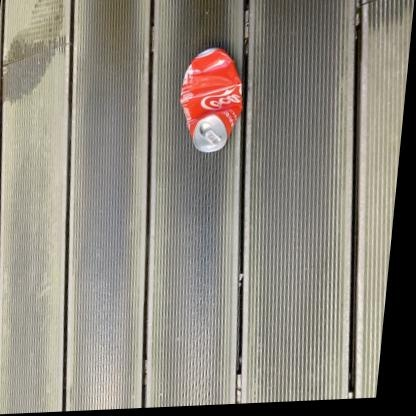trash: (180, 48, 241, 151)
